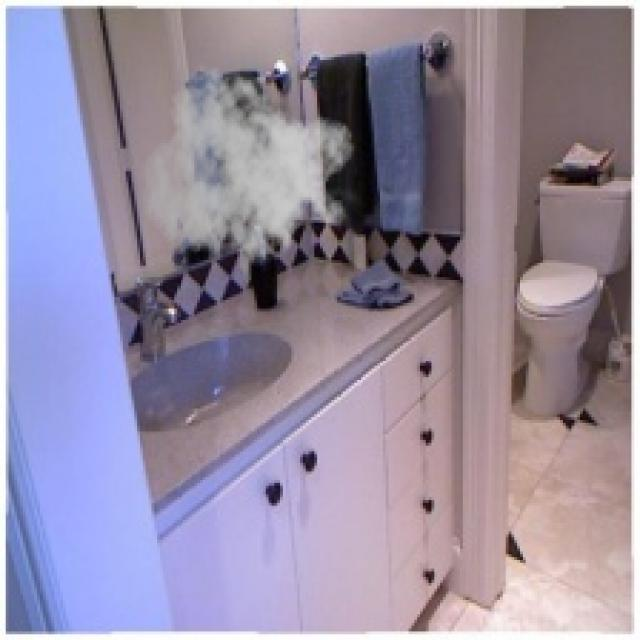Smoke: (140, 65, 354, 288)
